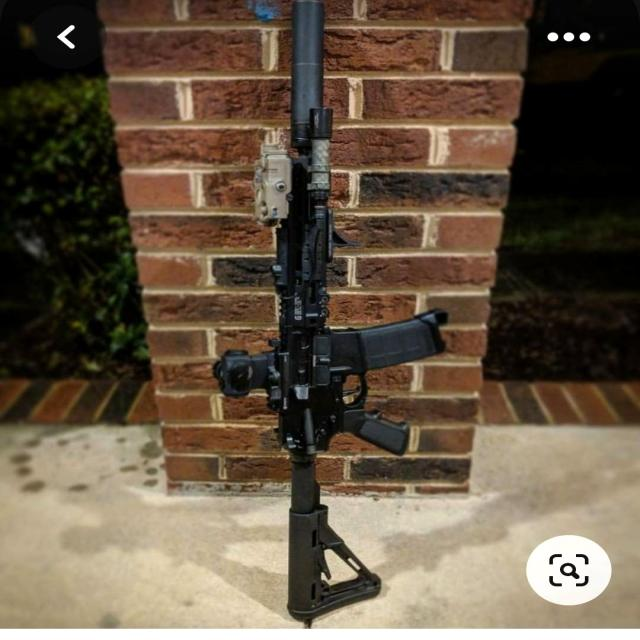m16: (112, 18, 490, 626)
